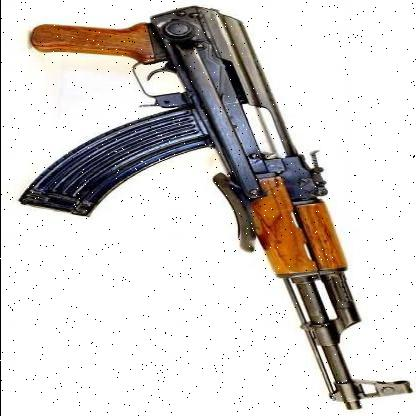rifle: (23, 6, 408, 412)
